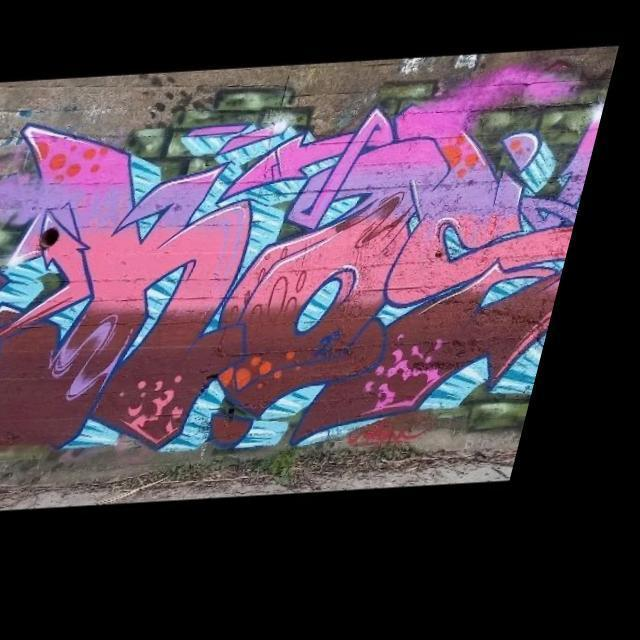nonspitting: (3, 107, 574, 451)
